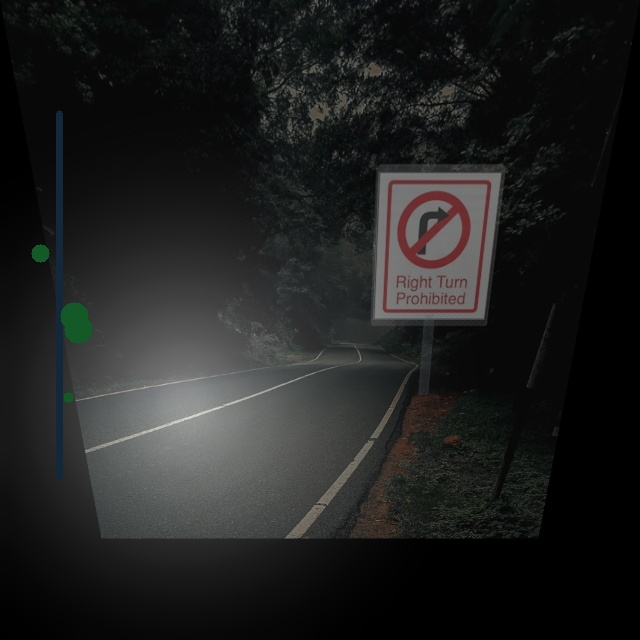Right_Turn_Prohibited: (387, 184, 486, 273)
